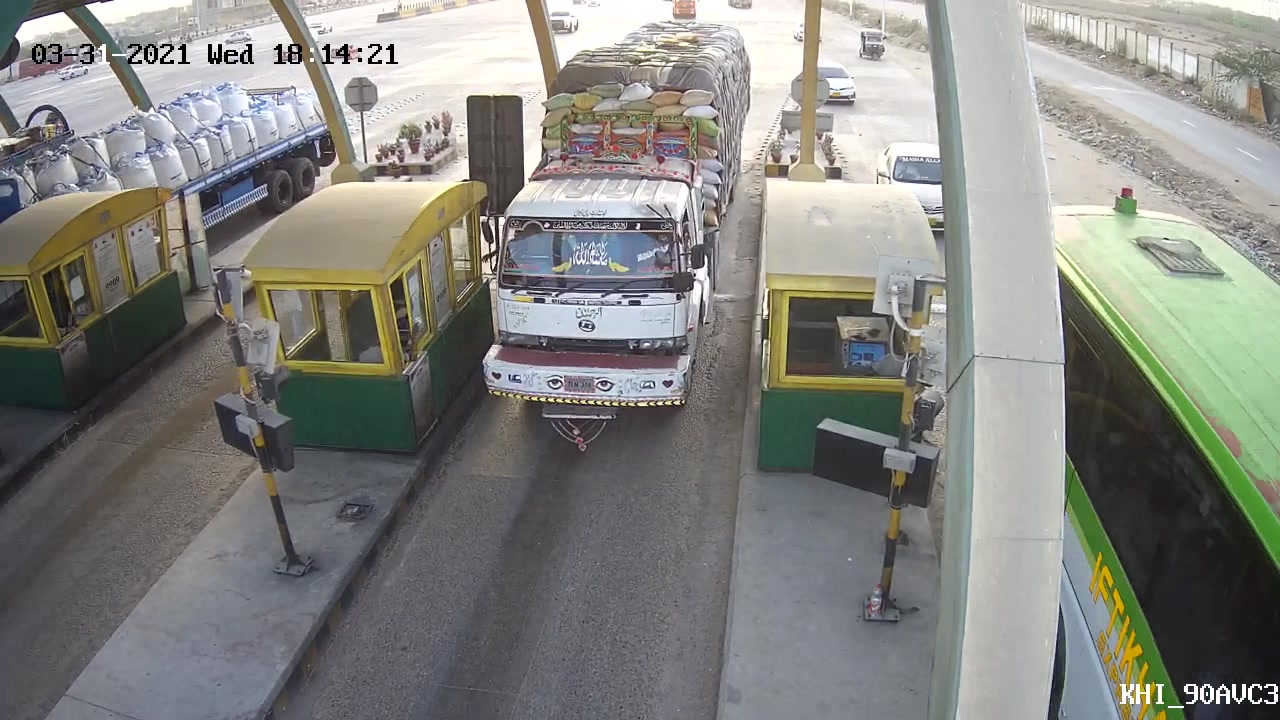F6: (478, 2, 761, 435)
